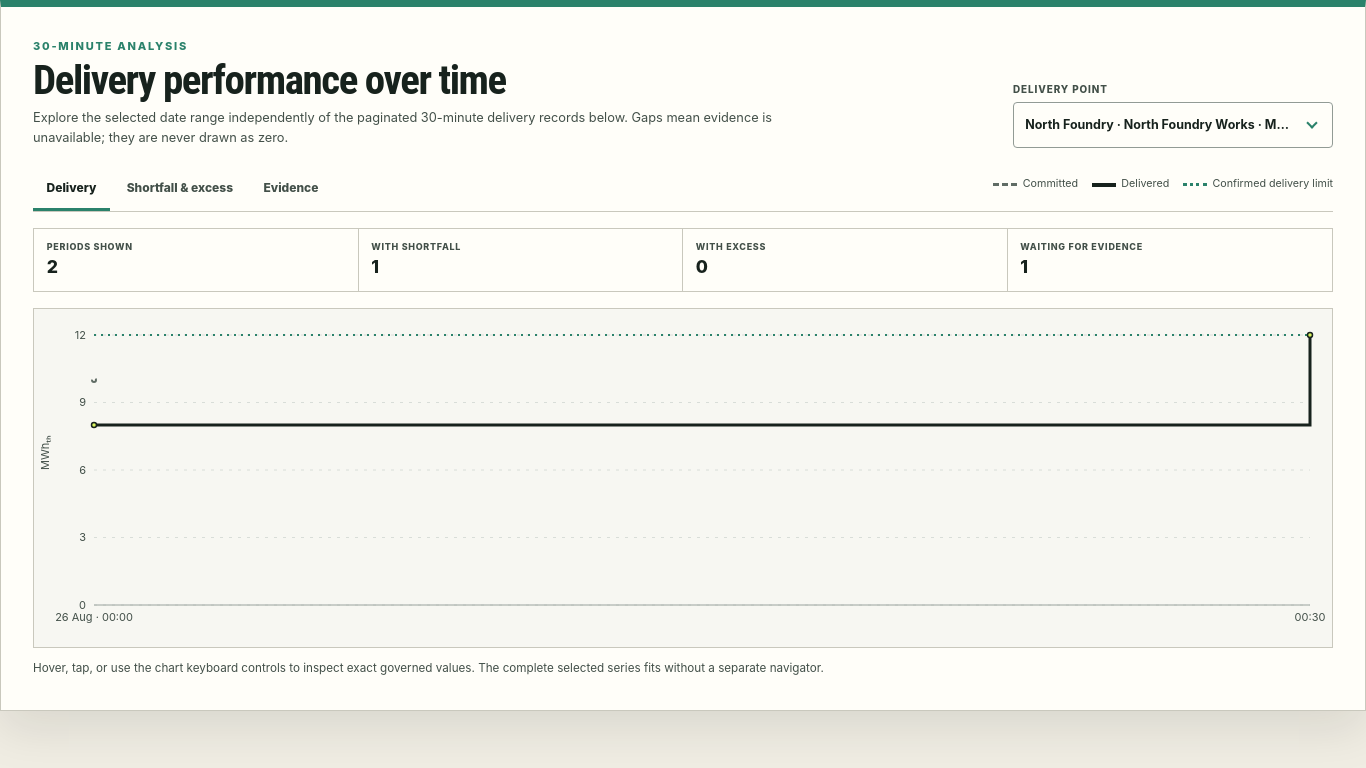
Test: DeliveryComparisonChart › provides delivery, exception and evidence views with exact accessible values
The image size is (1366, 768).
Expected: the heading "Delivery performance over time" is shown, top-left (33, 56), bottom-right (506, 104)
Expected: the dropdown named "Delivery point" reads "North Foundry · North Foundry Works · Main steam header", top-left (1013, 102), bottom-right (1333, 148)
What coordinates should you click on to do the following:
click the button "Shortfall & excess"
I would click on:
 (180, 189)
Its box is top-left (113, 167), bottom-right (247, 211).
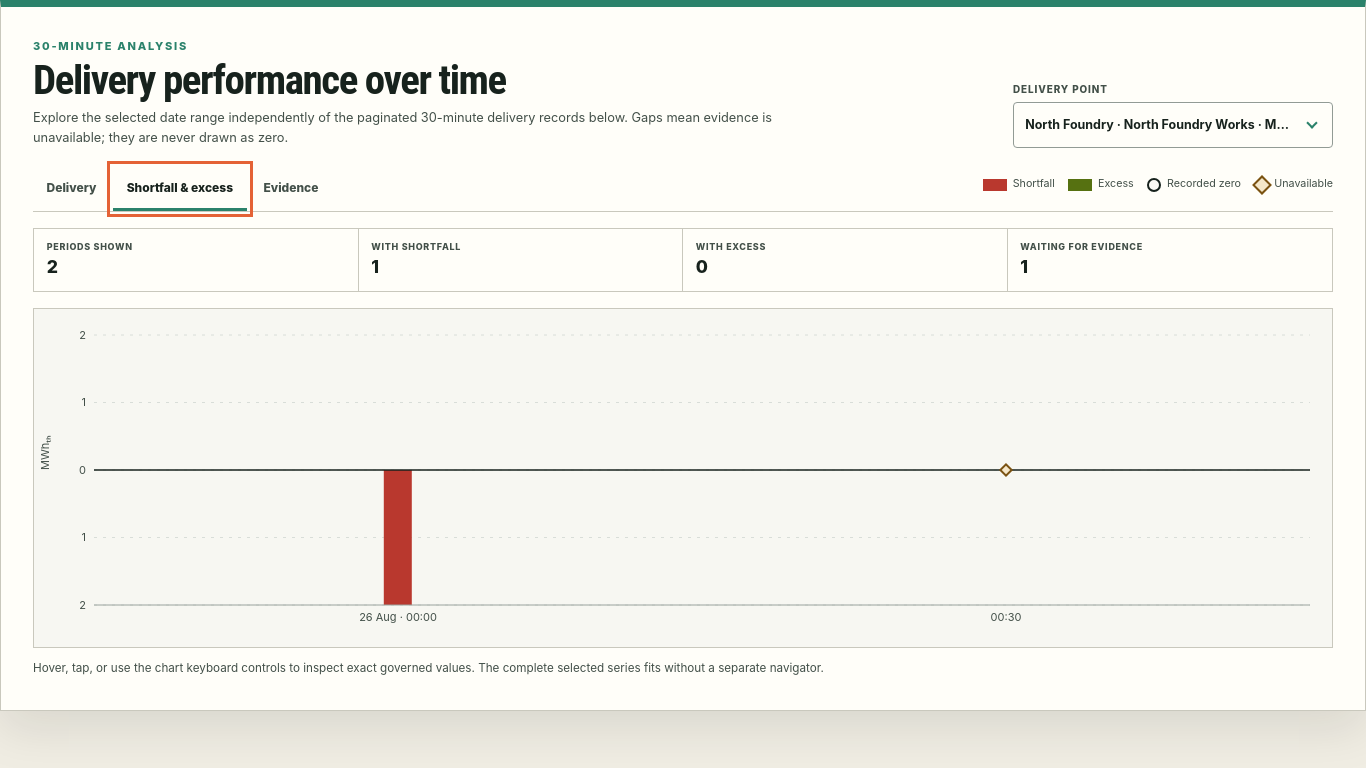
Result: the button "Shortfall & excess" is pressed at top-left (113, 167), bottom-right (247, 211)
What coordinates should you click on to do the following:
click the button "Evidence"
I would click on:
 (291, 189)
Its box is top-left (250, 167), bottom-right (332, 211).
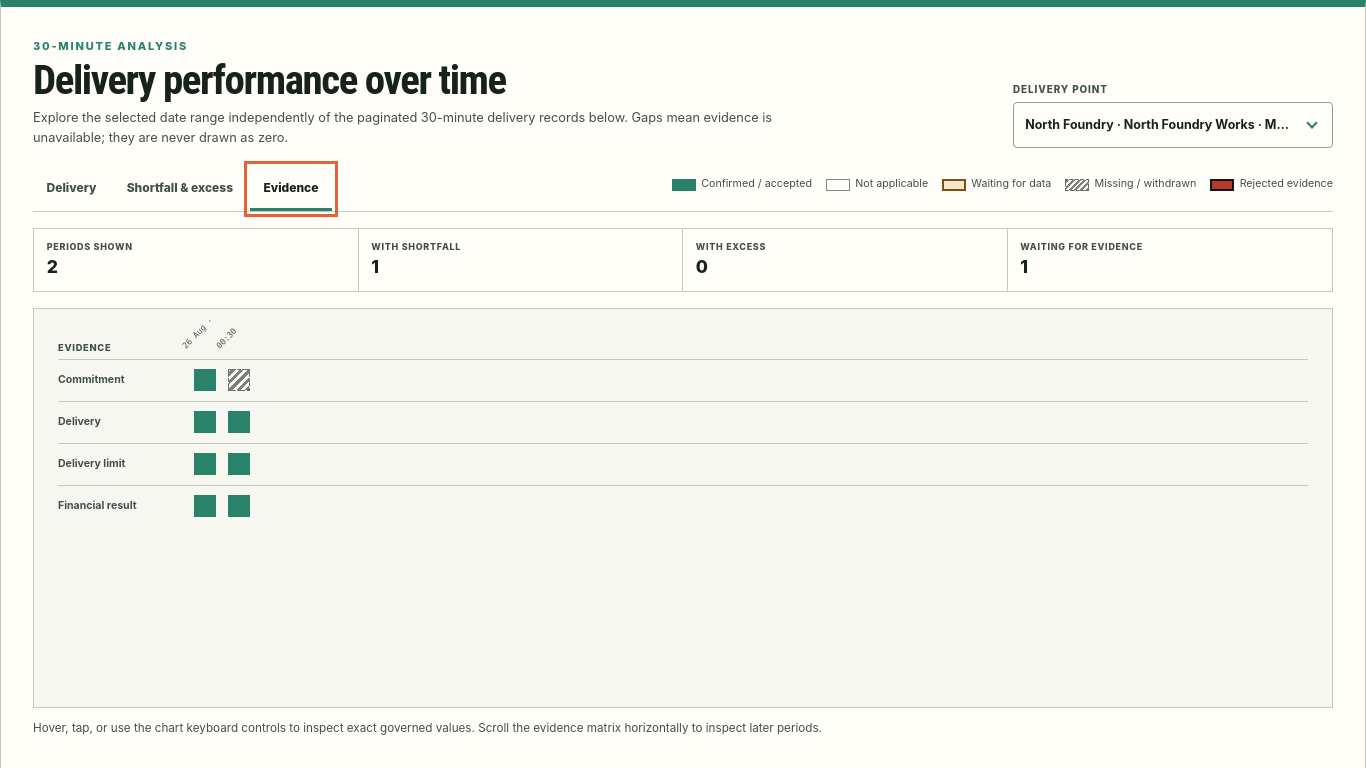
Result: the element named "evidence status by 30-minute period" is shown at top-left (58, 295), bottom-right (1308, 526)
Result: the picture named "Commitment, 26 Aug 2026, 00:30 BST: Missing" is shown at top-left (228, 369), bottom-right (250, 391)
What coordinates should you click on to do the following:
click the dropdown named "Delivery point"
I would click on:
 (1173, 125)
Its box is top-left (1013, 102), bottom-right (1333, 148).
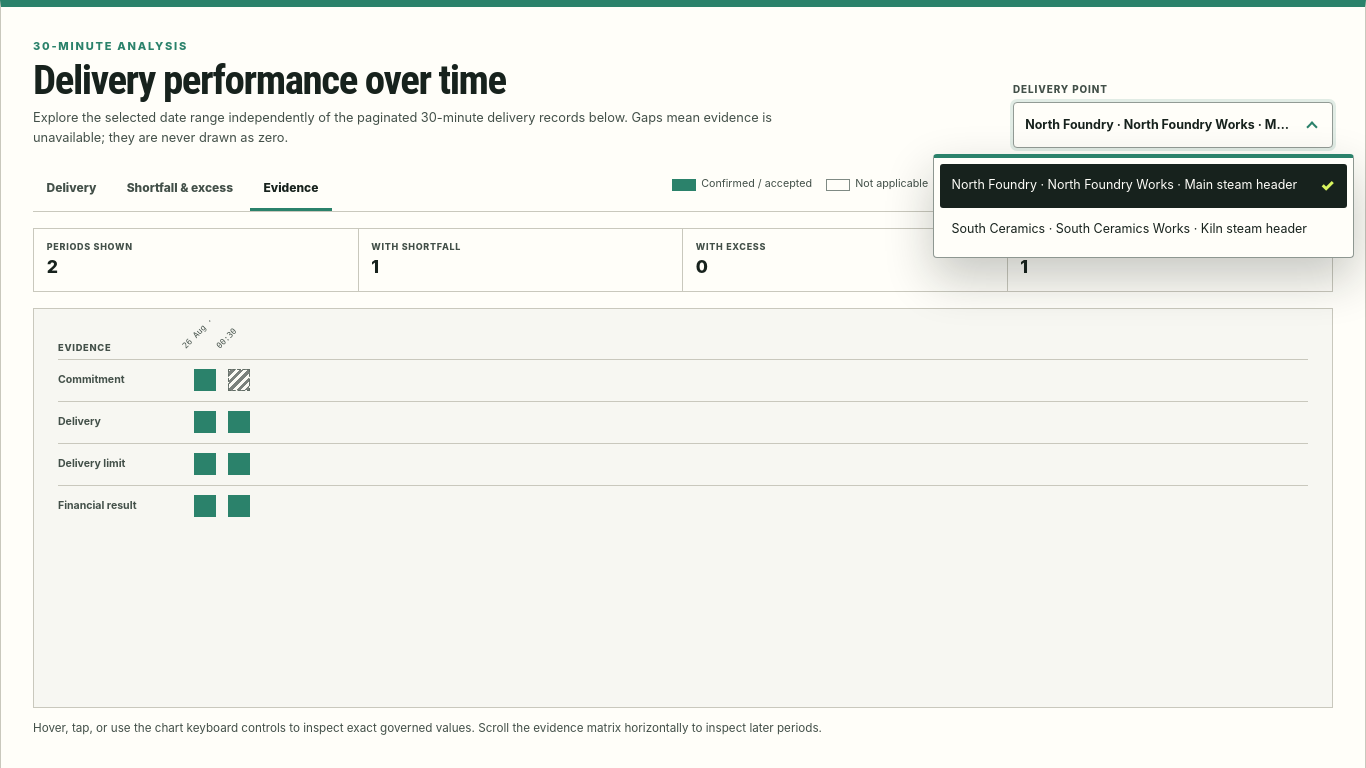
What coordinates should you click on to do the following:
click the option "South Ceramics · South Ceramics Works · Kiln steam header"
I would click on:
 (1129, 229)
Its box is top-left (952, 221), bottom-right (1307, 236).
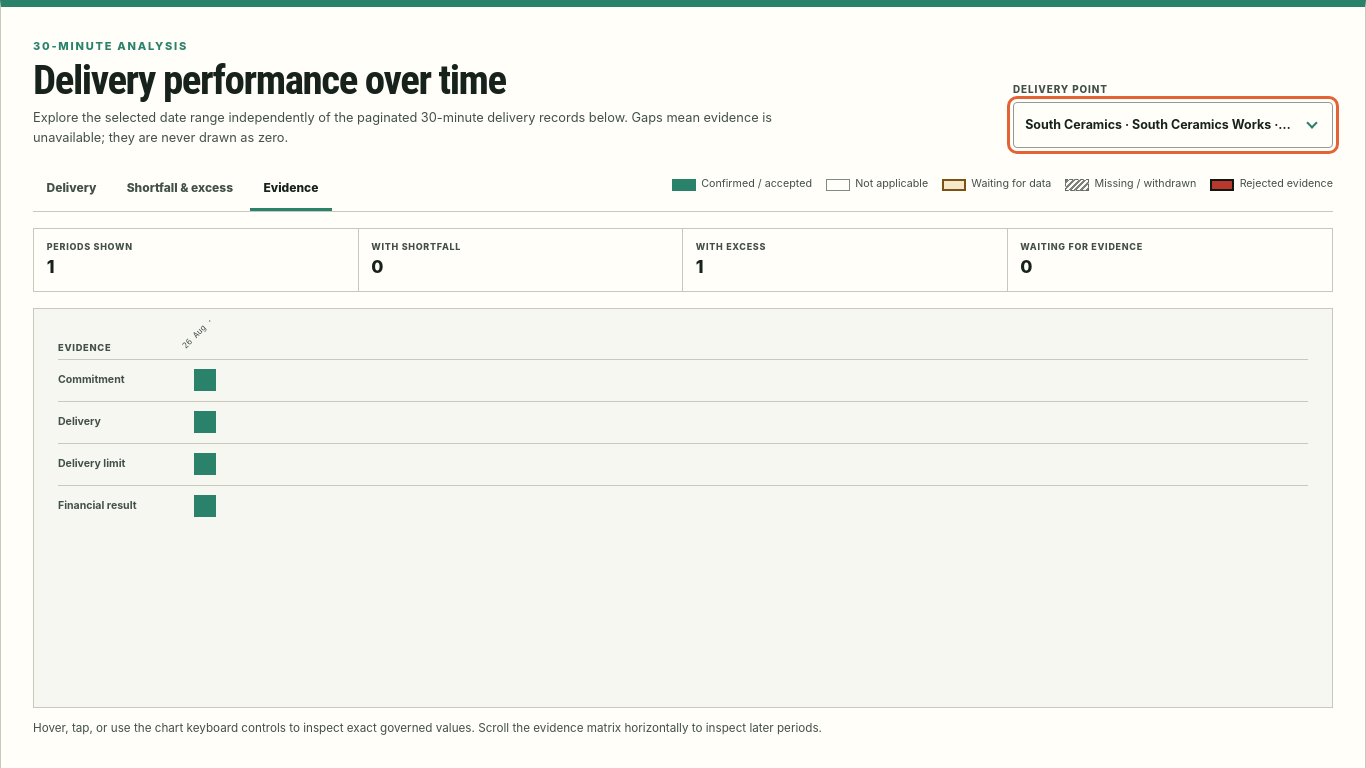
Result: the dropdown named "Delivery point" shows "South Ceramics" at top-left (1013, 102), bottom-right (1333, 148)
